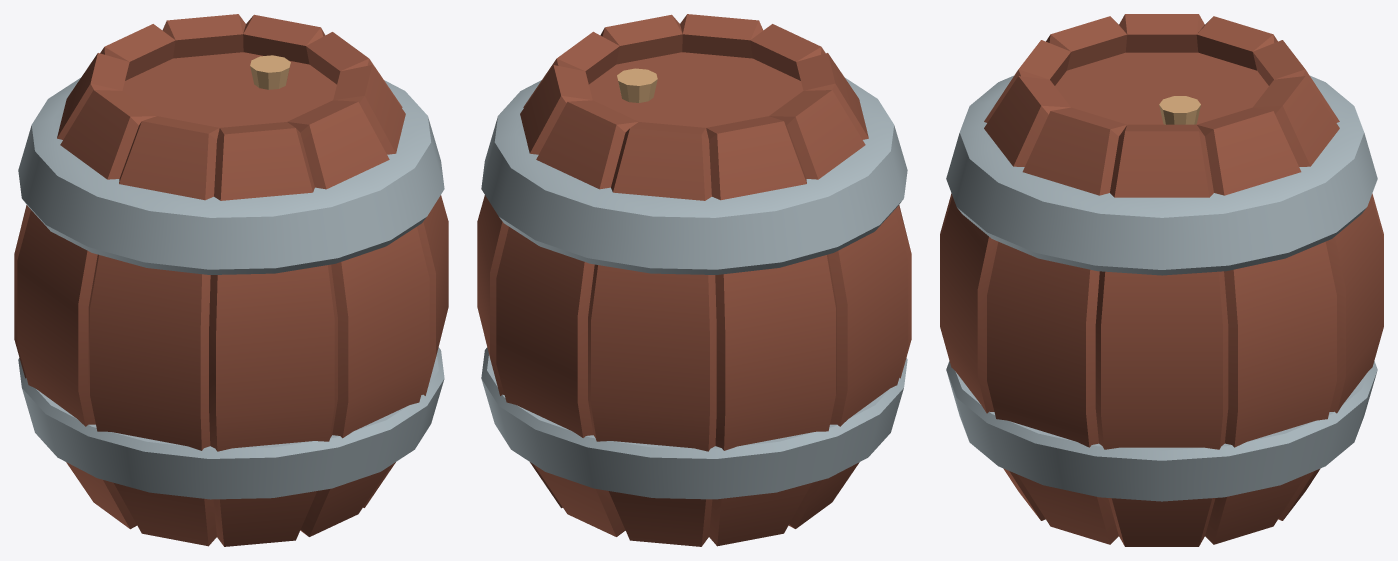
File: barrel.gltf
3 views of the same model, side by side, from view 1: azimuth 30°, elevation 25°; view 2: azimuth 150°, elevation 25°; view 3: azimuth 270°, elevation 25° (orthographic).
Visible parts, largest first — view 1: barrel; view 2: barrel; view 3: barrel.
Boxes of the visible parts, bbox=[...] form: barrel: bbox=[14, 14, 448, 546]; barrel: bbox=[477, 14, 911, 546]; barrel: bbox=[940, 14, 1383, 546].
Bounding box in the file's own units: 0.9415 × 1 × 0.9682.
